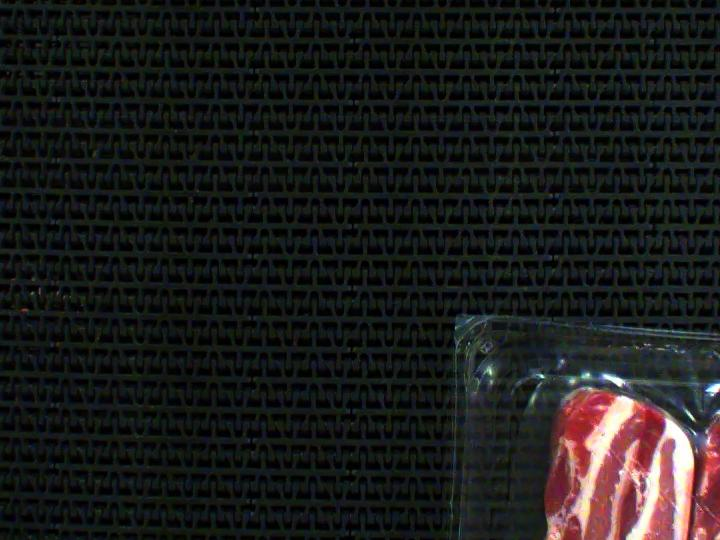unsealed: (500, 348, 720, 540)
